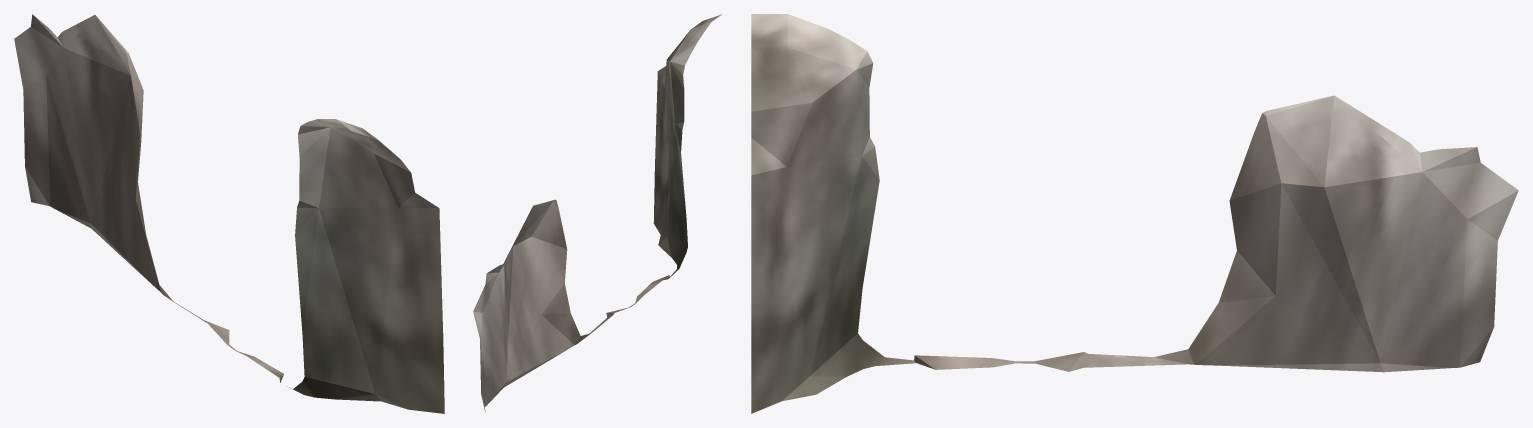
The picture shows the model from 3 angles, left to right: view 1: azimuth 30°, elevation 25°; view 2: azimuth 150°, elevation 25°; view 3: azimuth 270°, elevation 25°; orthographic projection. The views are drawn at different scales.
Bounding box in the file's own units: 0.2042 × 0.6403 × 1.28.
Materials: 1 (1 with a texture image).
